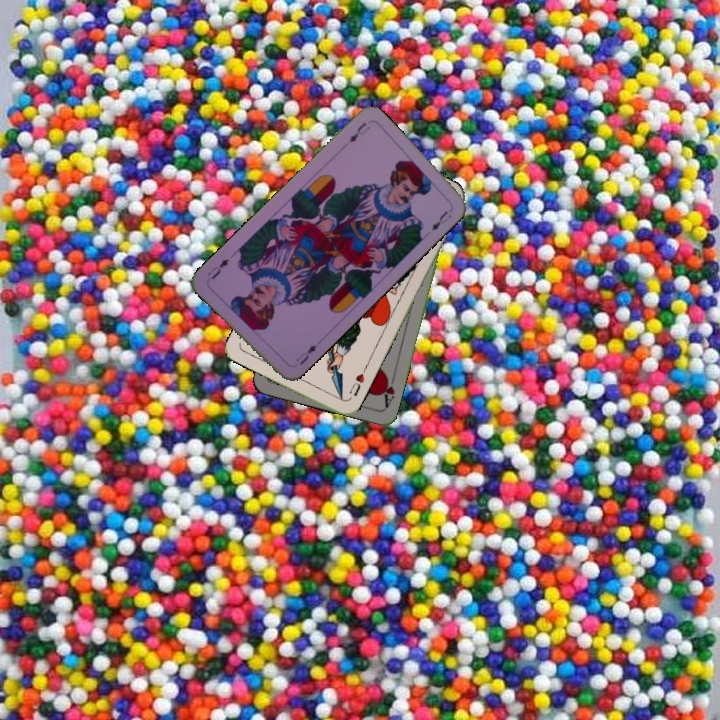EU: (345, 118, 373, 145), (292, 340, 319, 367)
HA: (378, 371, 398, 410)
HU: (345, 369, 367, 399)
